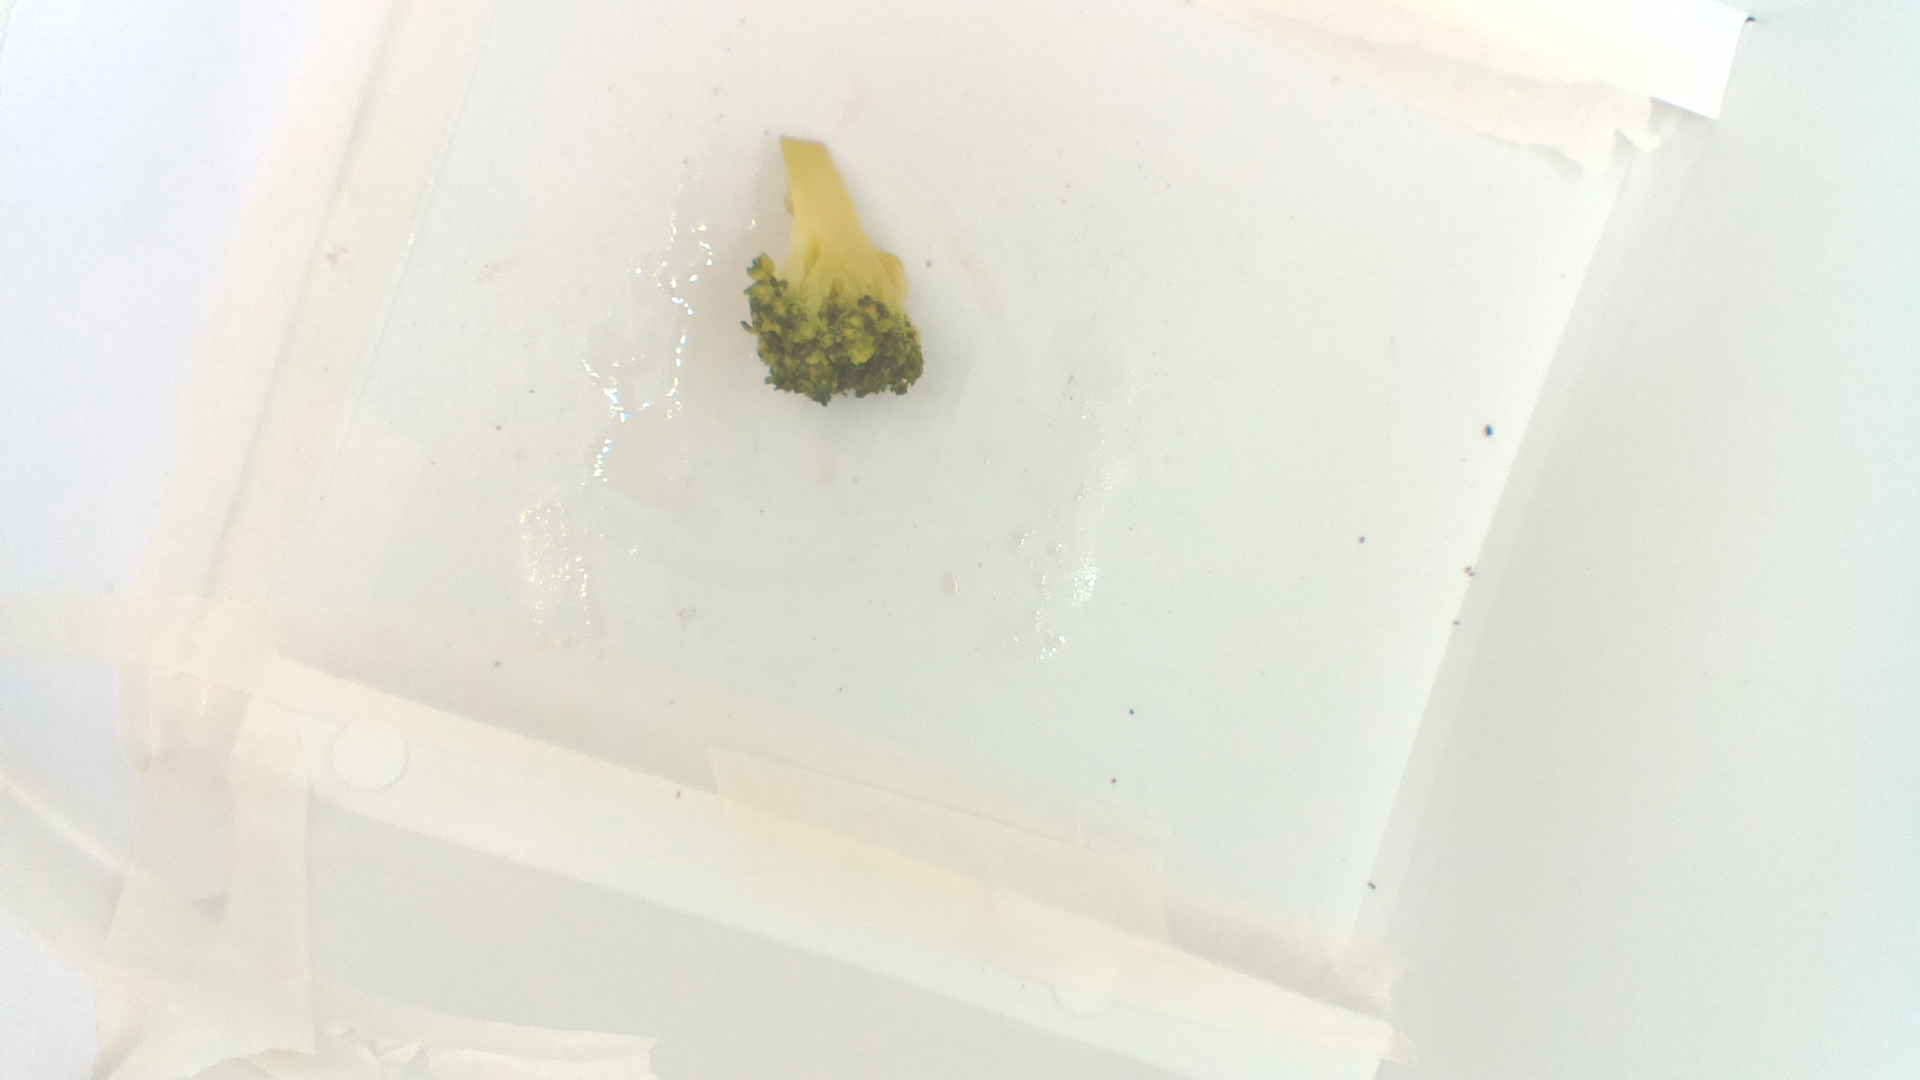vegetable: (741, 131, 926, 401)
